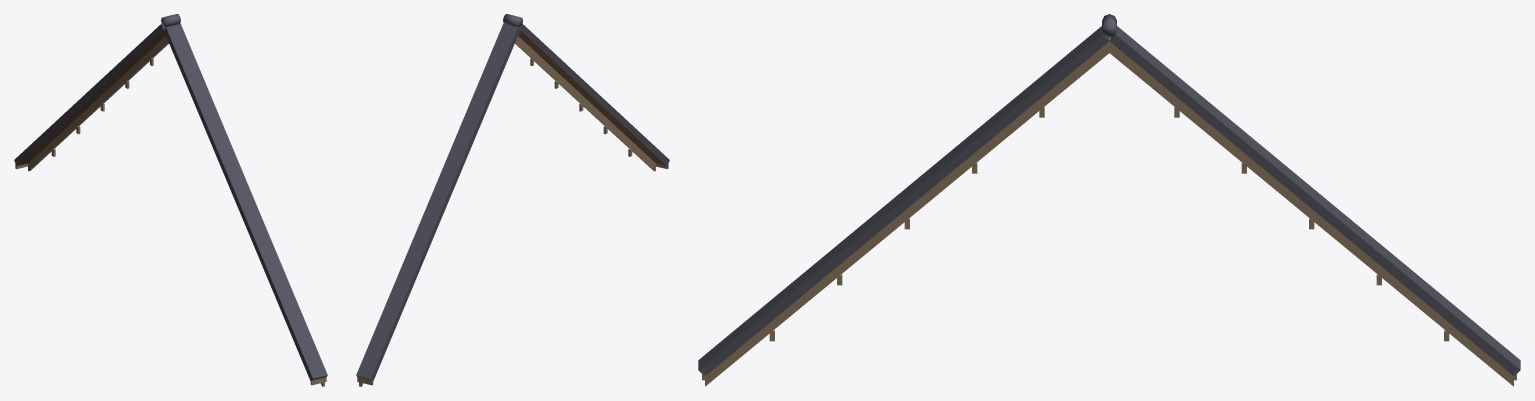
The model's file is kit_clapboard_slate_w7_end.glb.
3 renders of one model, left to right at view 1: azimuth 30°, elevation 25°; view 2: azimuth 150°, elevation 25°; view 3: azimuth 270°, elevation 25°, orthographic. The views are drawn at different scales.
Parts seen in each view (by area): view 1: kit_clapboard_slate_w7_end; view 2: kit_clapboard_slate_w7_end; view 3: kit_clapboard_slate_w7_end.
Boxes of the visible parts, bbox=[...] form: kit_clapboard_slate_w7_end: bbox=[14, 14, 327, 386]; kit_clapboard_slate_w7_end: bbox=[356, 14, 669, 386]; kit_clapboard_slate_w7_end: bbox=[698, 14, 1520, 386].
Size of the model in its own units: 0.22 by 3.77 by 7.72.
